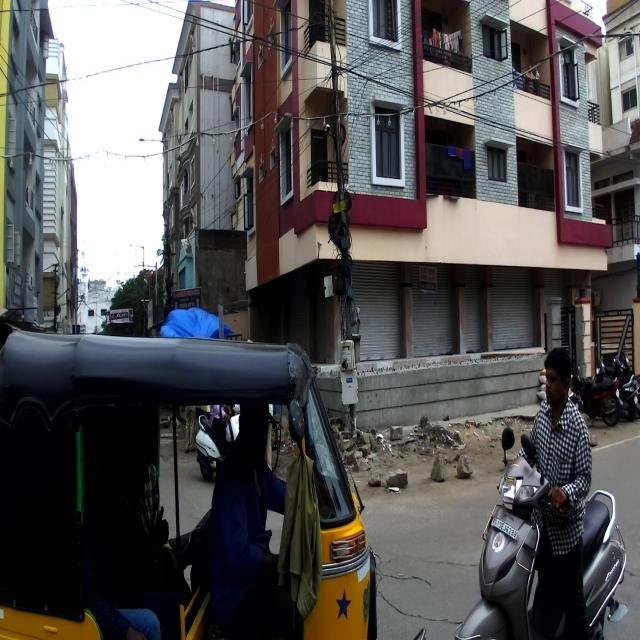autorickshaw: (0, 326, 426, 639)
scooter: (453, 426, 627, 639)
